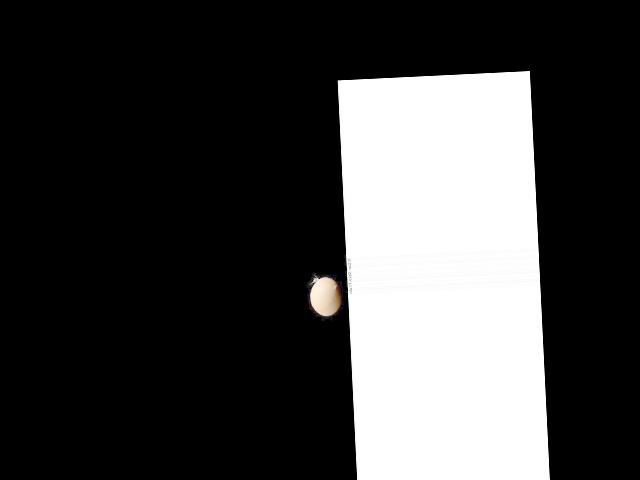egg: (310, 276, 342, 317)
